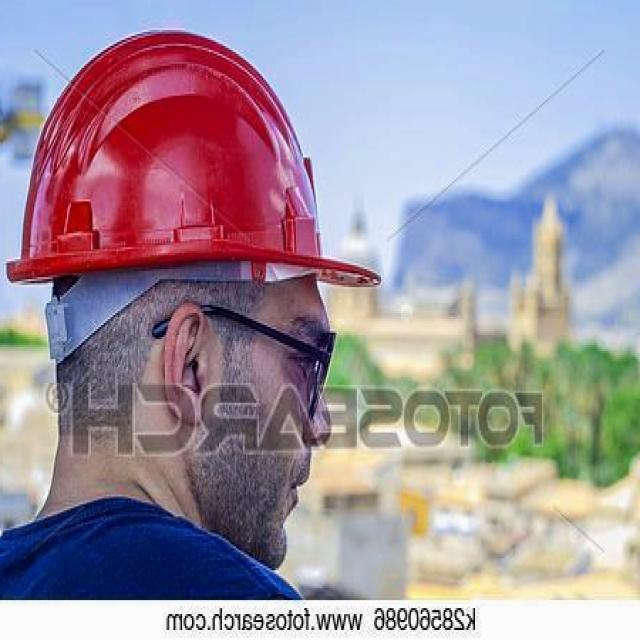face_nomask: (182, 309, 361, 570)
glasses: (253, 315, 341, 423)
head_helmet: (0, 24, 334, 279)
person: (0, 33, 410, 597)
